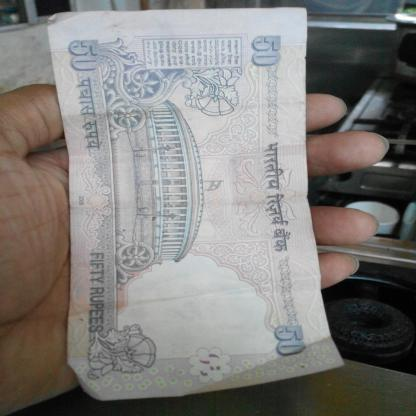Old50Back: (49, 7, 343, 400)
